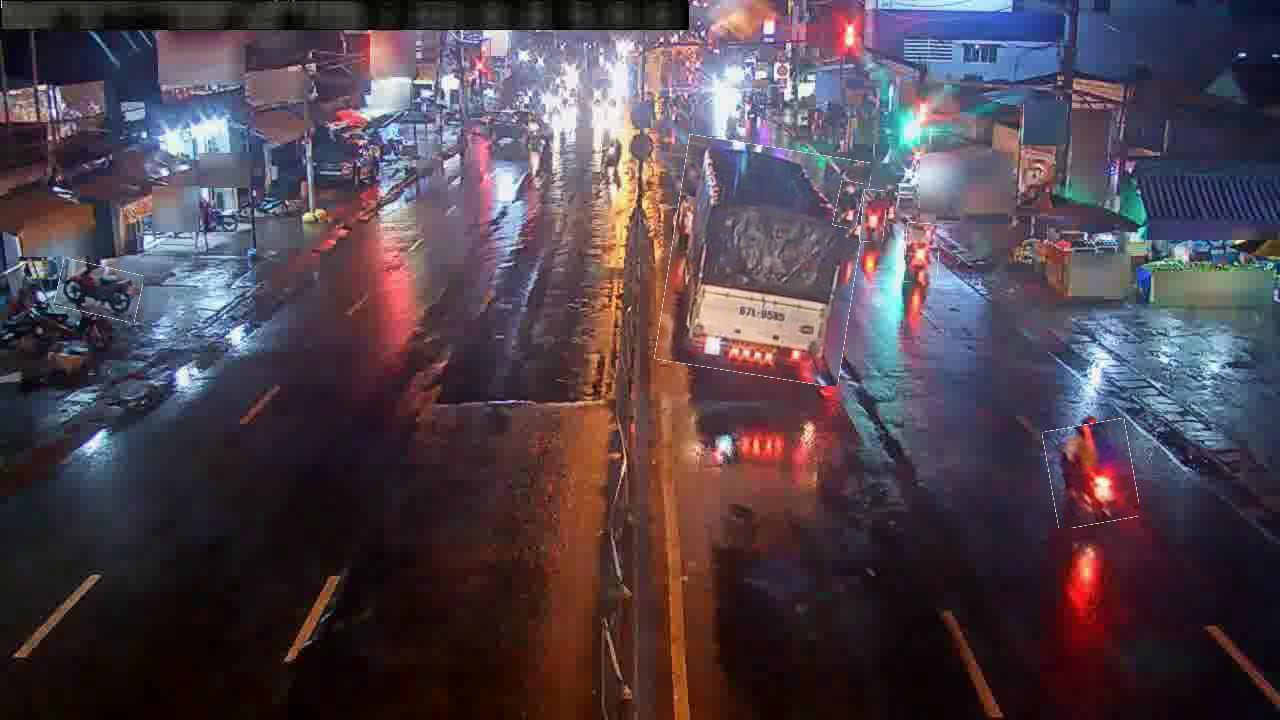8: (663, 141, 864, 381)
motorbike: (1046, 421, 1137, 526), (56, 263, 142, 319), (904, 223, 939, 283), (602, 131, 632, 177), (861, 190, 886, 242), (835, 181, 862, 229)
